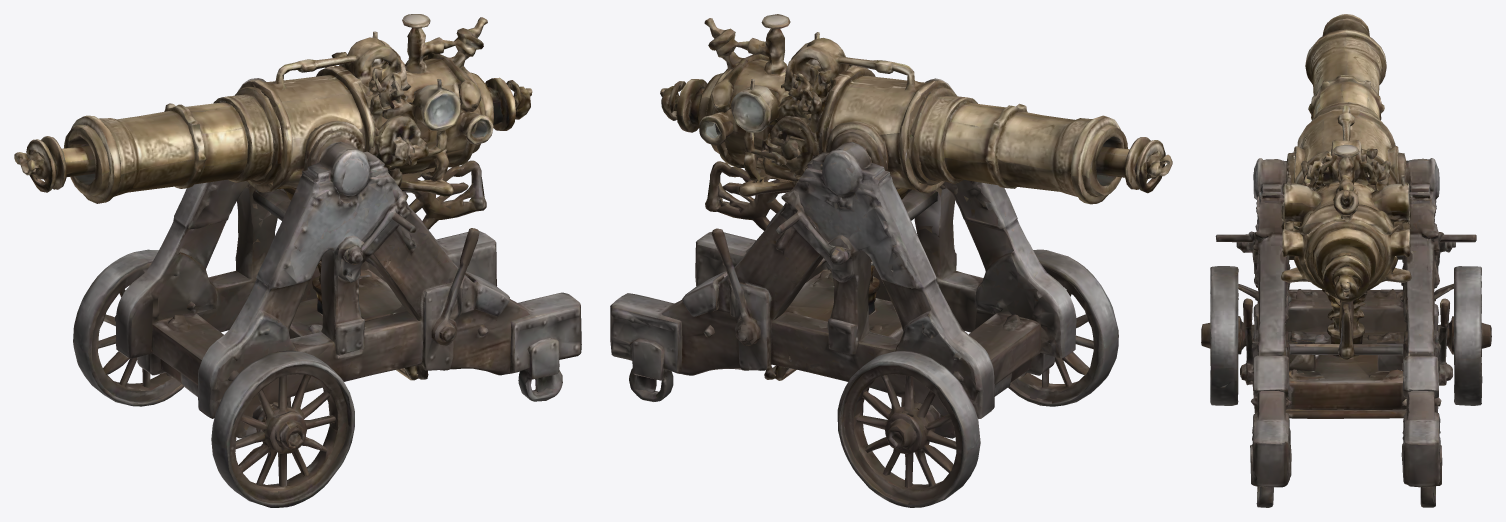
Rendered from moon-cannon.glb.
The picture shows the model from 3 angles, left to right: view 1: azimuth 30°, elevation 25°; view 2: azimuth 150°, elevation 25°; view 3: azimuth 270°, elevation 25°; orthographic projection. The views are drawn at different scales.
Visible parts, largest first — view 1: geometry_0; view 2: geometry_0; view 3: geometry_0.
Part boxes in pixels (<box>): geometry_0: <box>14,14,581,507</box>; geometry_0: <box>610,14,1172,507</box>; geometry_0: <box>1201,14,1491,507</box>.
Size of the model in its own units: 0.8492 by 0.6109 by 0.4763.
1 material, 1 textured.
